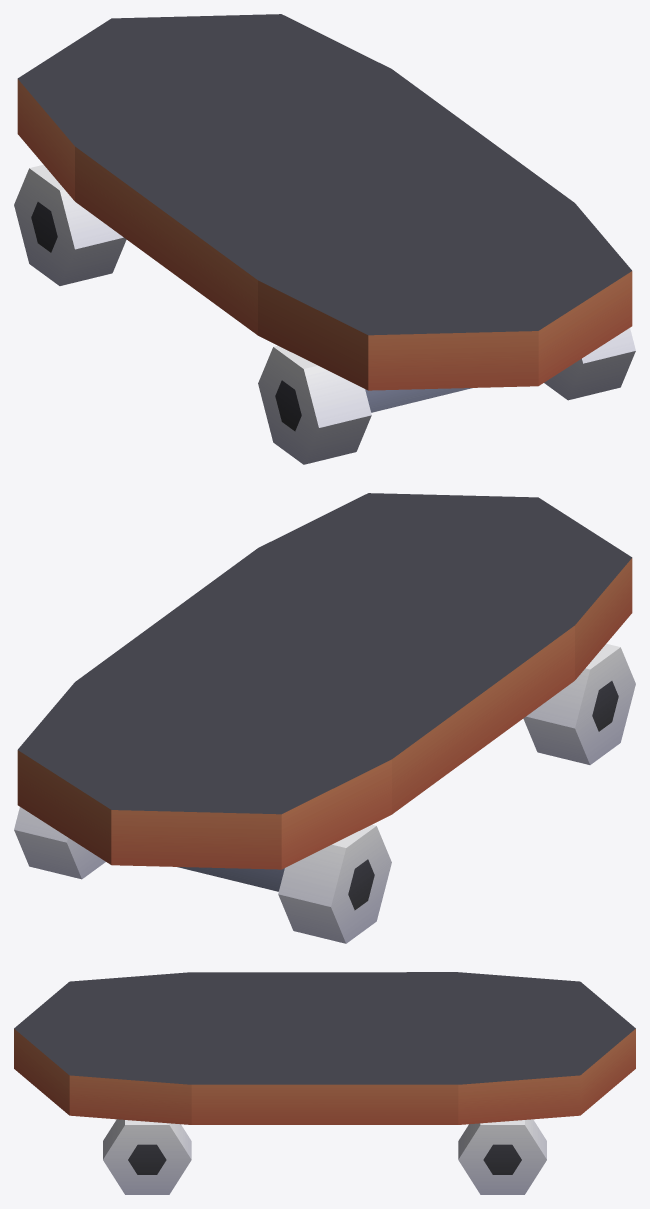
The model's file is skateboard_00.obj.
3 views of the same model, one above another, from view 1: azimuth 30°, elevation 25°; view 2: azimuth 150°, elevation 25°; view 3: azimuth 270°, elevation 25° (orthographic). The views are drawn at different scales.
Visible parts, largest first — view 1: skateboard; view 2: skateboard; view 3: skateboard.
Part boxes in pixels (<box>): skateboard: <box>14,14,635,464</box>; skateboard: <box>14,493,635,943</box>; skateboard: <box>14,972,635,1194</box>.
Size of the model in its own units: 0.3 by 0.1366 by 0.7.
